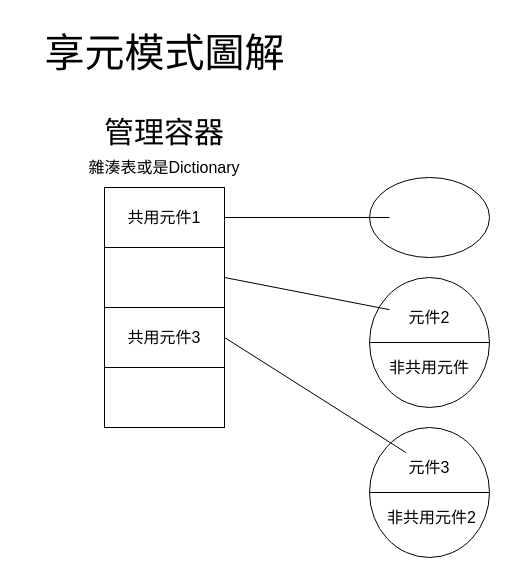
Image size: 508x575. Some labels were removed from this diagram. Each missing label, with the box of its shape:
元件1: (368, 176, 490, 258)
共用元件2: (104, 246, 224, 308)
